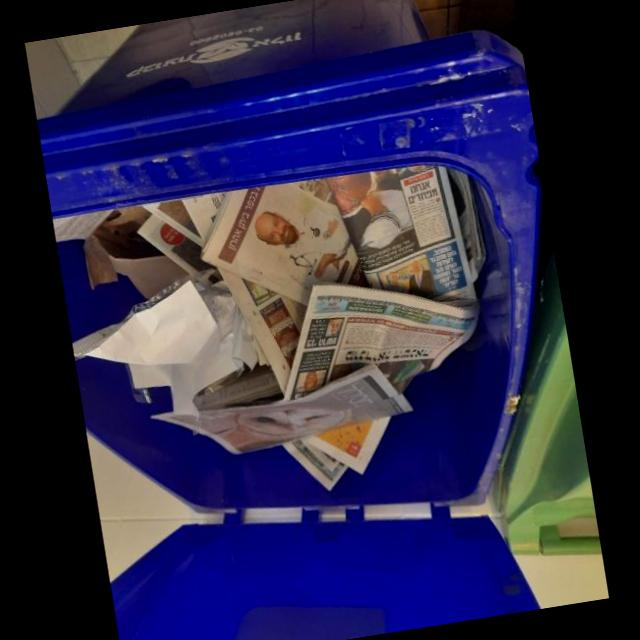giay: (151, 364, 413, 455), (286, 281, 481, 400), (72, 279, 237, 416), (201, 178, 369, 305), (327, 165, 476, 301), (218, 267, 306, 393), (281, 416, 391, 491), (182, 193, 226, 243)
